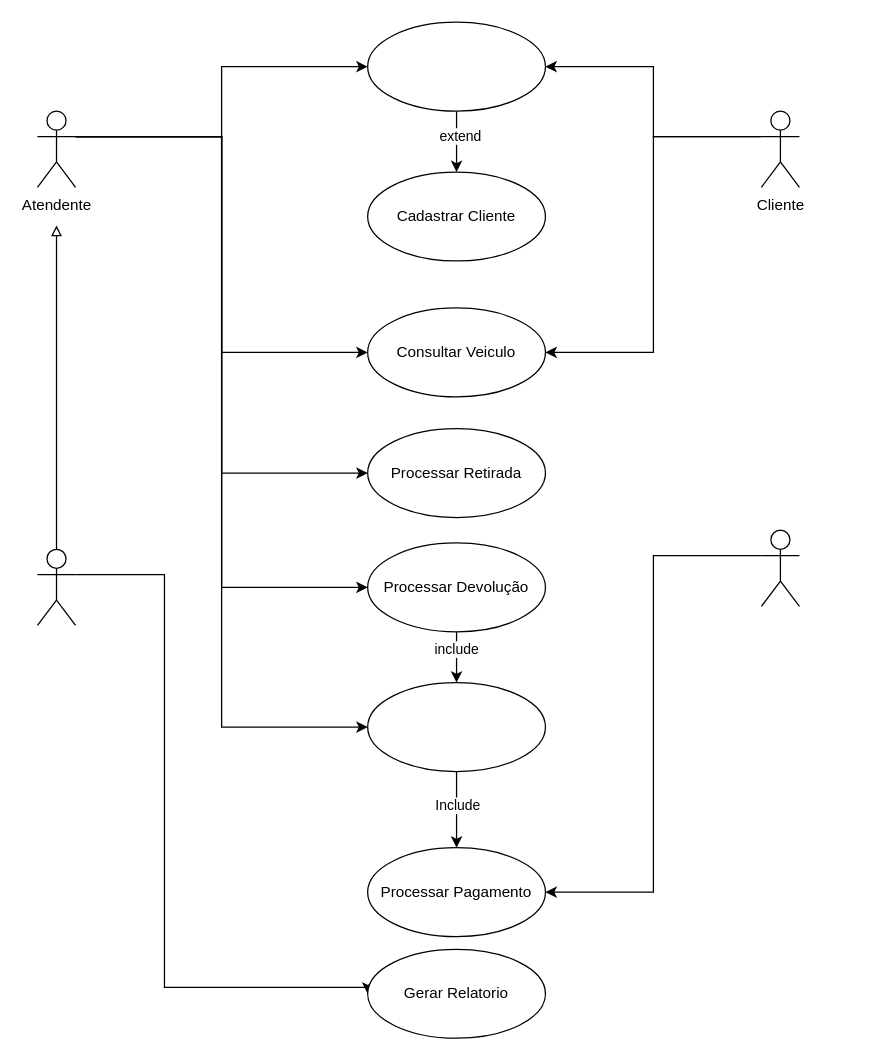
This 880x1060 diagram has some shape labels left out. The shapes that lost their labels are listed below. From the top down, each one's box as (x1, y1, x2, y2) in pixels, then its label:
(366, 21, 545, 111): Realizar Reserva
(36, 548, 76, 625): gerente
(760, 529, 799, 606): Sistema de pagamento
(366, 681, 545, 772): Calcular Locação
